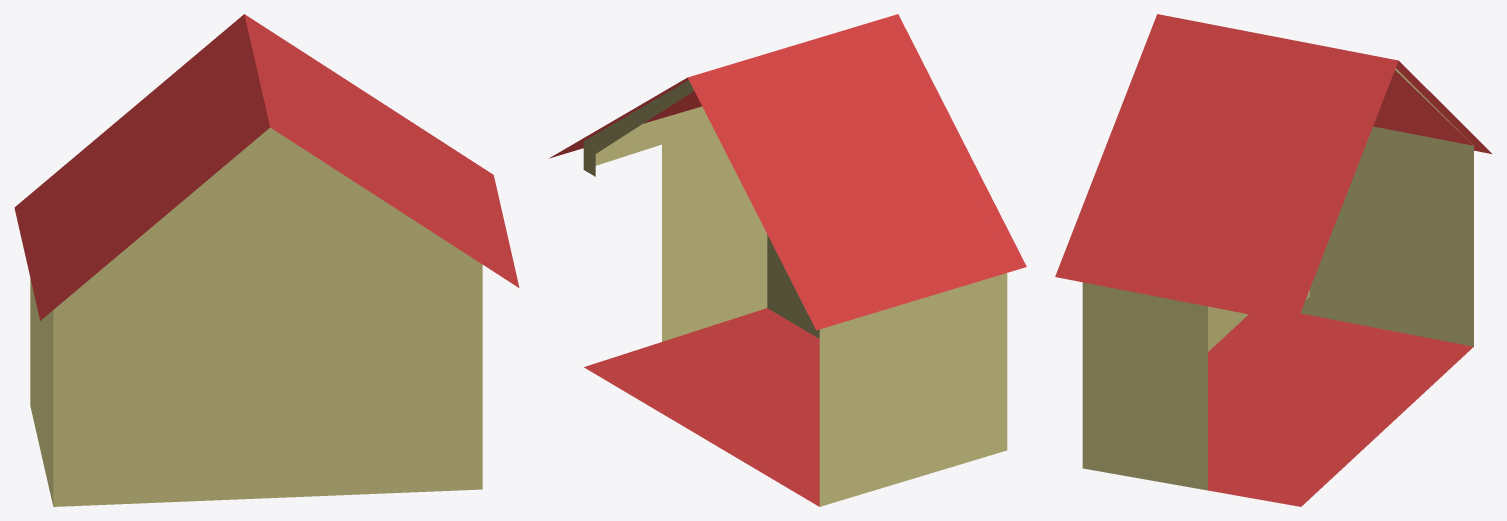
The picture shows the model from 3 angles, left to right: view 1: azimuth 30°, elevation 25°; view 2: azimuth 150°, elevation 25°; view 3: azimuth 270°, elevation 25°; orthographic projection. The views are drawn at different scales.
Bounding box in the file's own units: 18.86 × 15.26 × 14.26.
